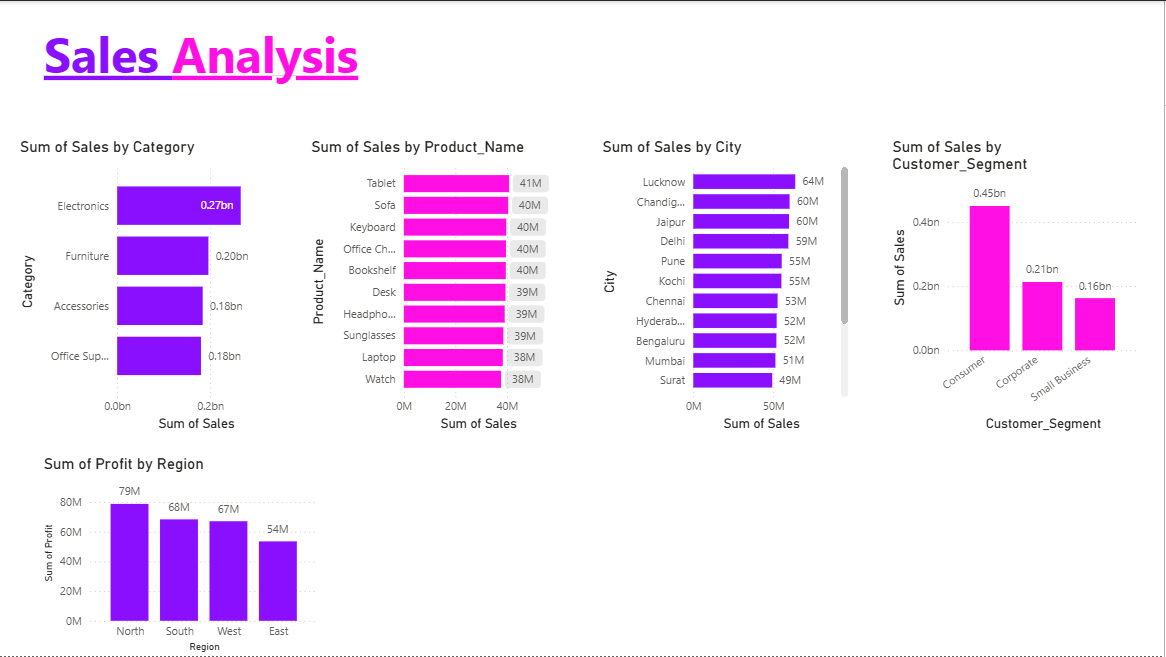

The page's visual inventory and layout, read from the dashboard file:
{"tool":"powerbi","page":{"name":"Sales Analysis","canvas":[1280,720],"ordinal":1},"visuals":[{"type":"clusteredBarChart","fields":{"Category":["retail_cleaned.Category"],"Y":["Sum(retail_cleaned.Sales)"]},"box":[19.2,149.6,306,328],"z":0},{"type":"clusteredBarChart","fields":{"Category":["retail_cleaned.Product_Name"],"Y":["Sum(retail_cleaned.Sales)"]},"box":[338.9,149.6,288.2,328],"z":1},{"type":"clusteredColumnChart","fields":{"Category":["retail_cleaned.Region"],"Y":["Sum(retail_cleaned.Profit)"]},"box":[45.3,498.1,311.5,222.3],"z":2},{"type":"clusteredColumnChart","fields":{"Category":["retail_cleaned.Customer_Segment"],"Y":["Sum(retail_cleaned.Sales)"]},"box":[977,149.6,279.9,328],"z":3},{"type":"clusteredBarChart","fields":{"Category":["retail_cleaned.City"],"Y":["Sum(retail_cleaned.Sales)"]},"box":[658.7,149.6,279.9,328],"z":4},{"type":"textbox","box":[45.3,16.5,404.8,89.2],"z":5}]}

Visuals, with their boxes in screenshot pixels (x1, y1, x2, y2), scaled from the page's 1280x720 canvas onto the 1166x657 screenshot:
clusteredBarChart - retail_cleaned.Category x Sum(retail_cleaned.Sales): (left=17, top=137, right=296, bottom=436)
clusteredBarChart - retail_cleaned.Product_Name x Sum(retail_cleaned.Sales): (left=309, top=137, right=571, bottom=436)
clusteredColumnChart - retail_cleaned.Region x Sum(retail_cleaned.Profit): (left=41, top=455, right=325, bottom=656)
clusteredColumnChart - retail_cleaned.Customer_Segment x Sum(retail_cleaned.Sales): (left=890, top=137, right=1145, bottom=436)
clusteredBarChart - retail_cleaned.City x Sum(retail_cleaned.Sales): (left=600, top=137, right=855, bottom=436)
textbox: (left=41, top=15, right=410, bottom=96)
